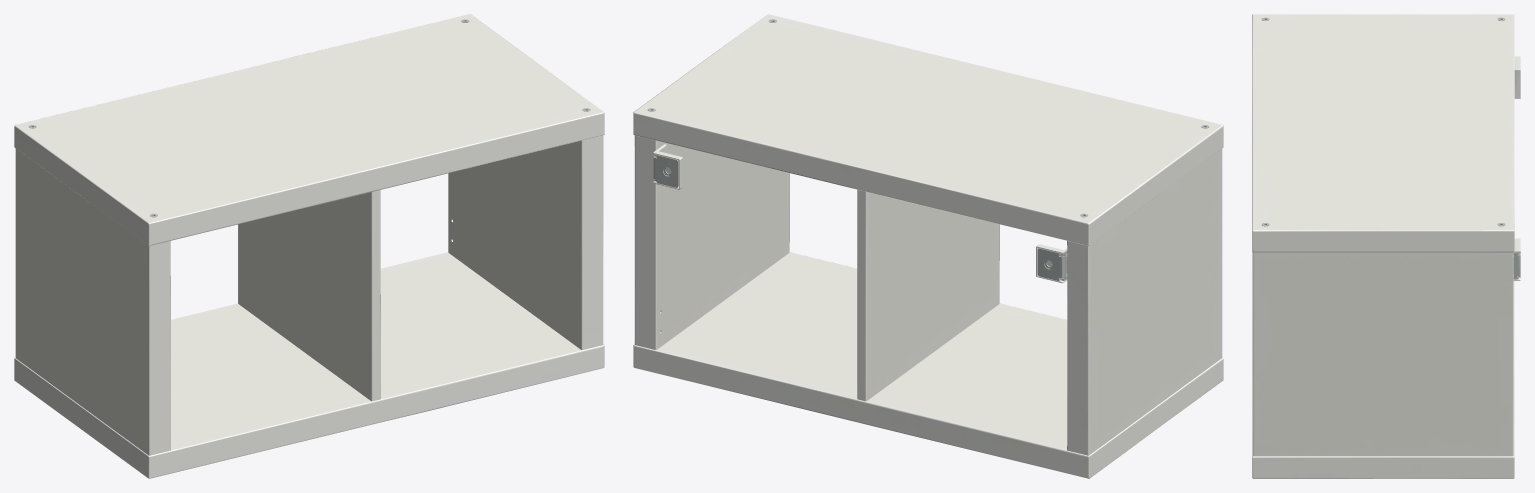
Rendered from Kallax90301555.glb.
3 renders of one model, left to right at view 1: azimuth 30°, elevation 25°; view 2: azimuth 150°, elevation 25°; view 3: azimuth 270°, elevation 25°, orthographic. The views are drawn at different scales.
Parts seen in each view (by area): view 1: model; view 2: model; view 3: model.
Part boxes in pixels (bbox=[...]): model: bbox=[14, 14, 604, 478]; model: bbox=[633, 14, 1223, 478]; model: bbox=[1252, 14, 1520, 478].
Size of the model in its own units: 0.765 by 0.4107 by 0.401.
Materials: 1 (1 with a texture image).
